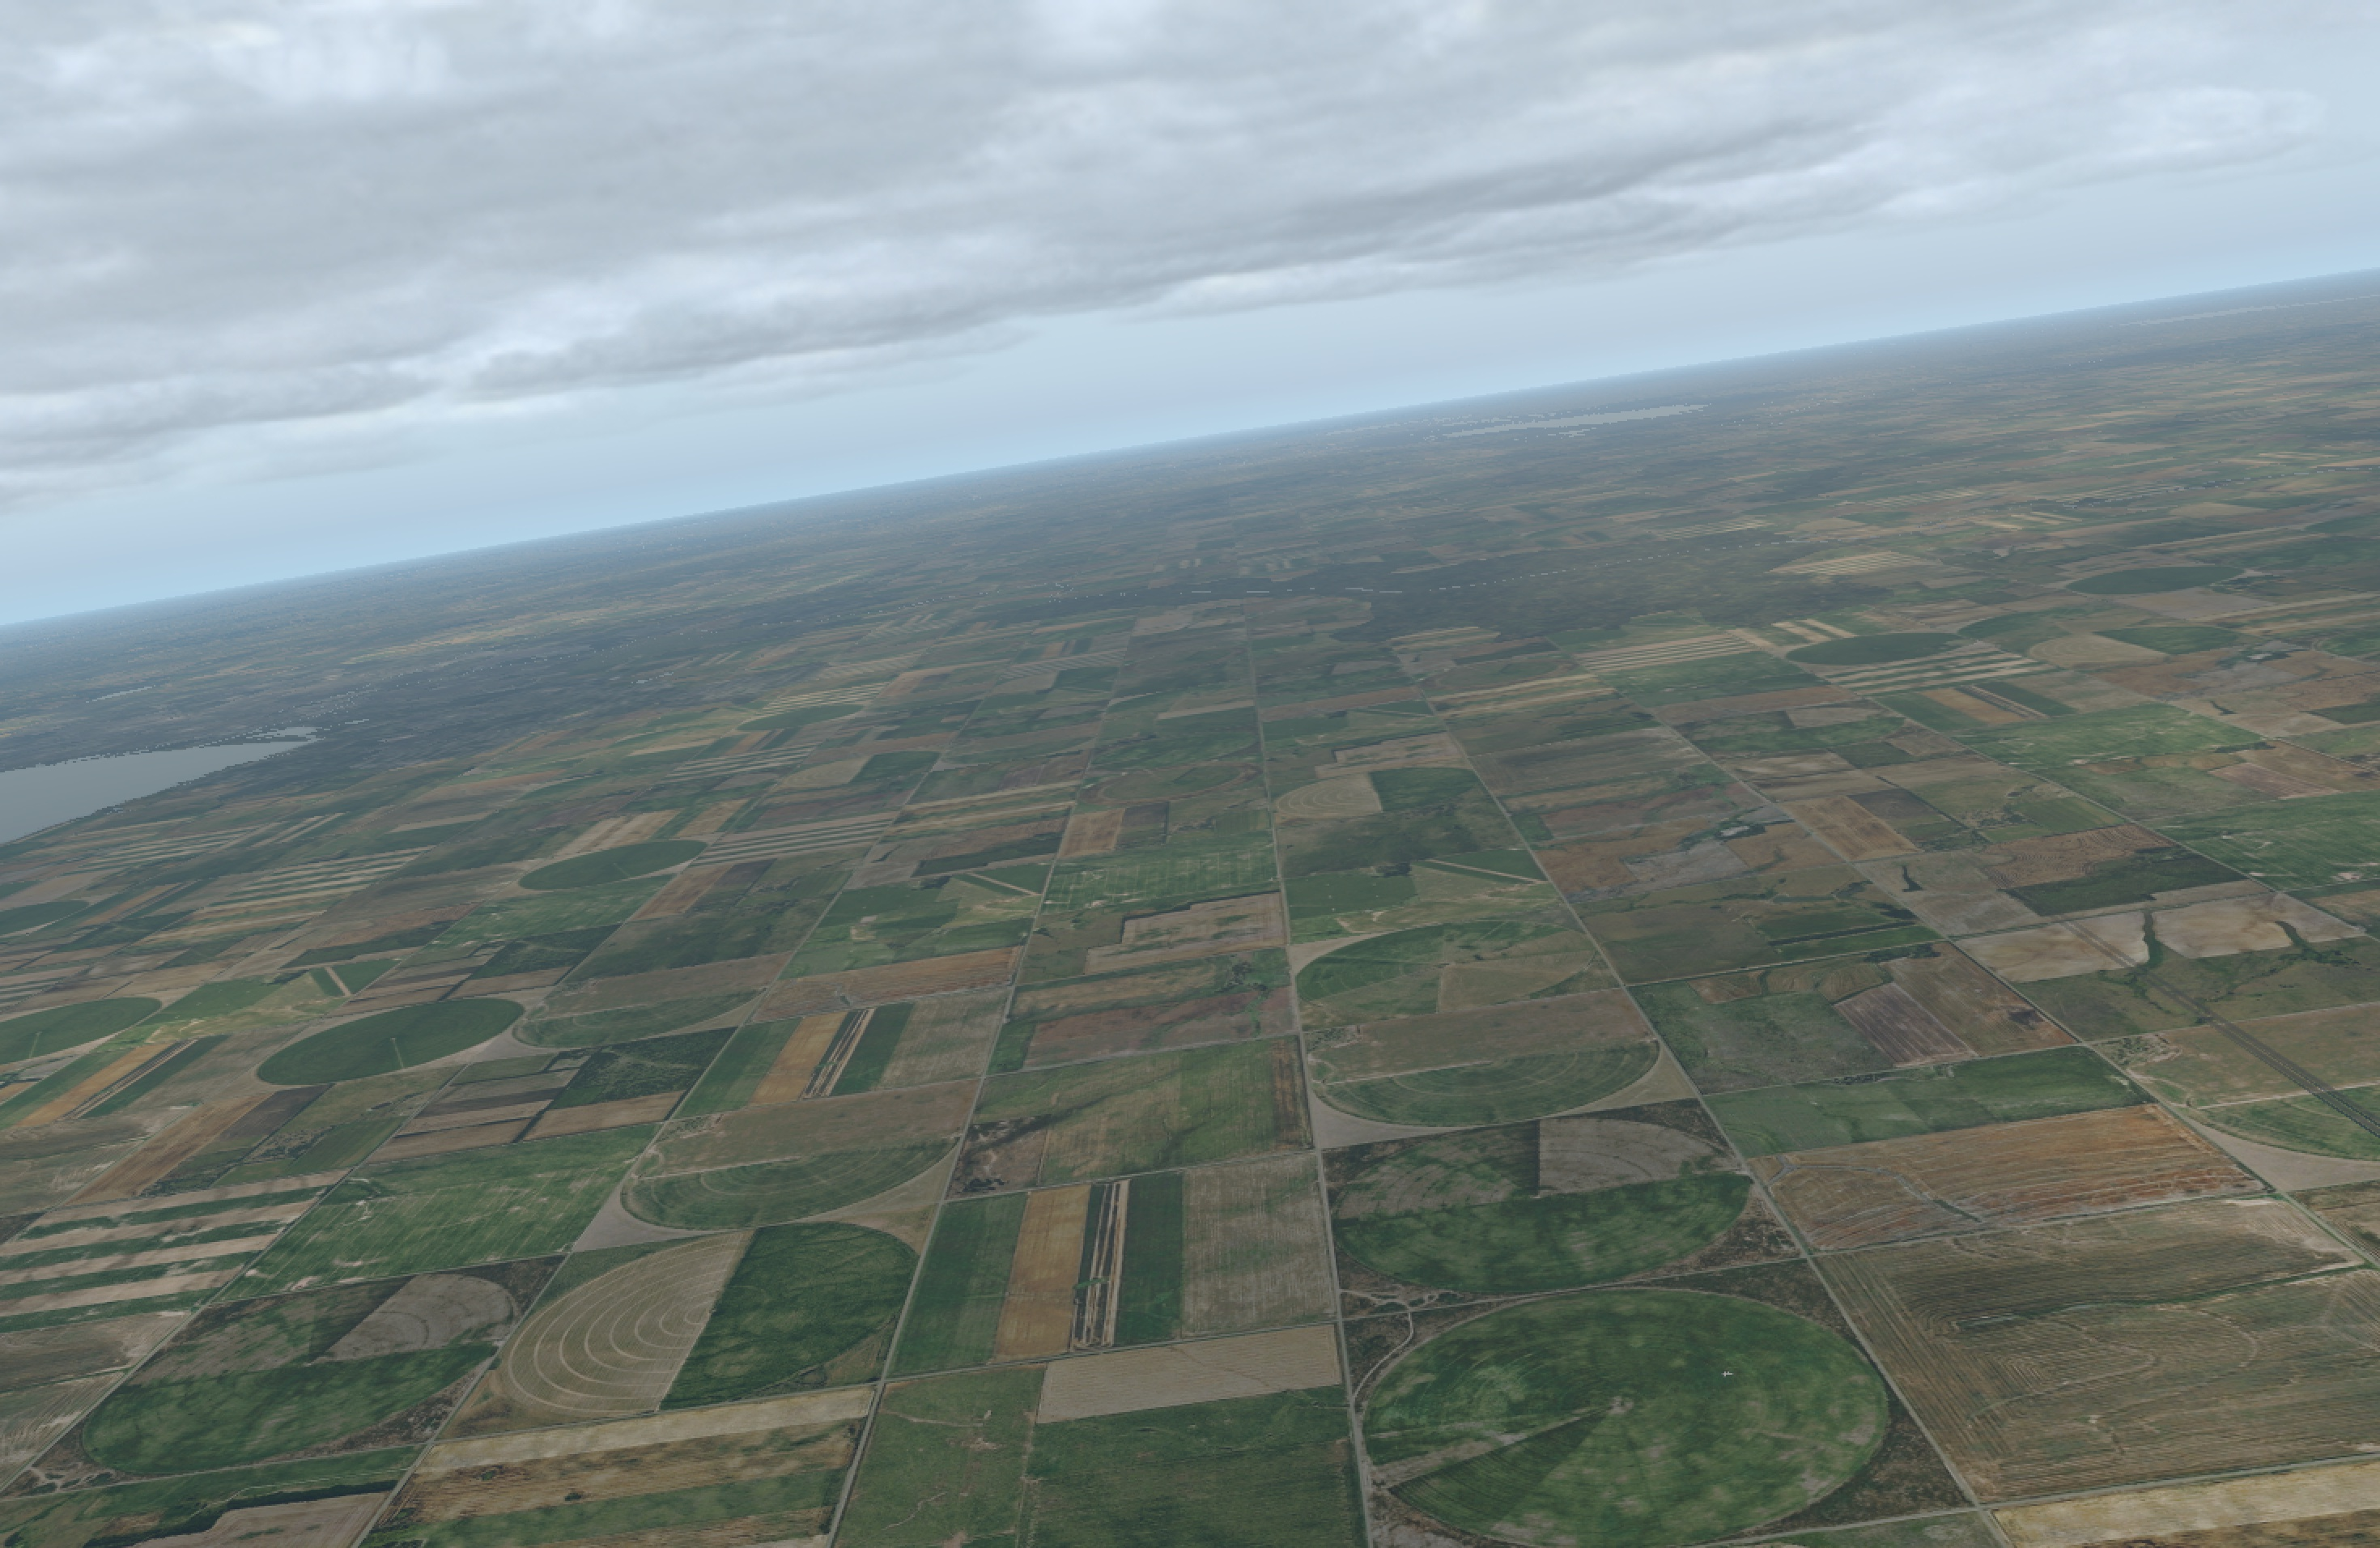aircraft: (1719, 1373, 1731, 1378)
